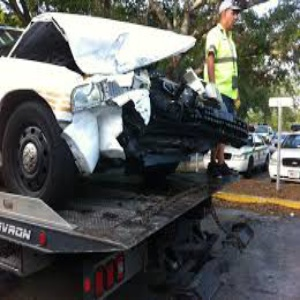bonnet: (44, 7, 200, 75)
